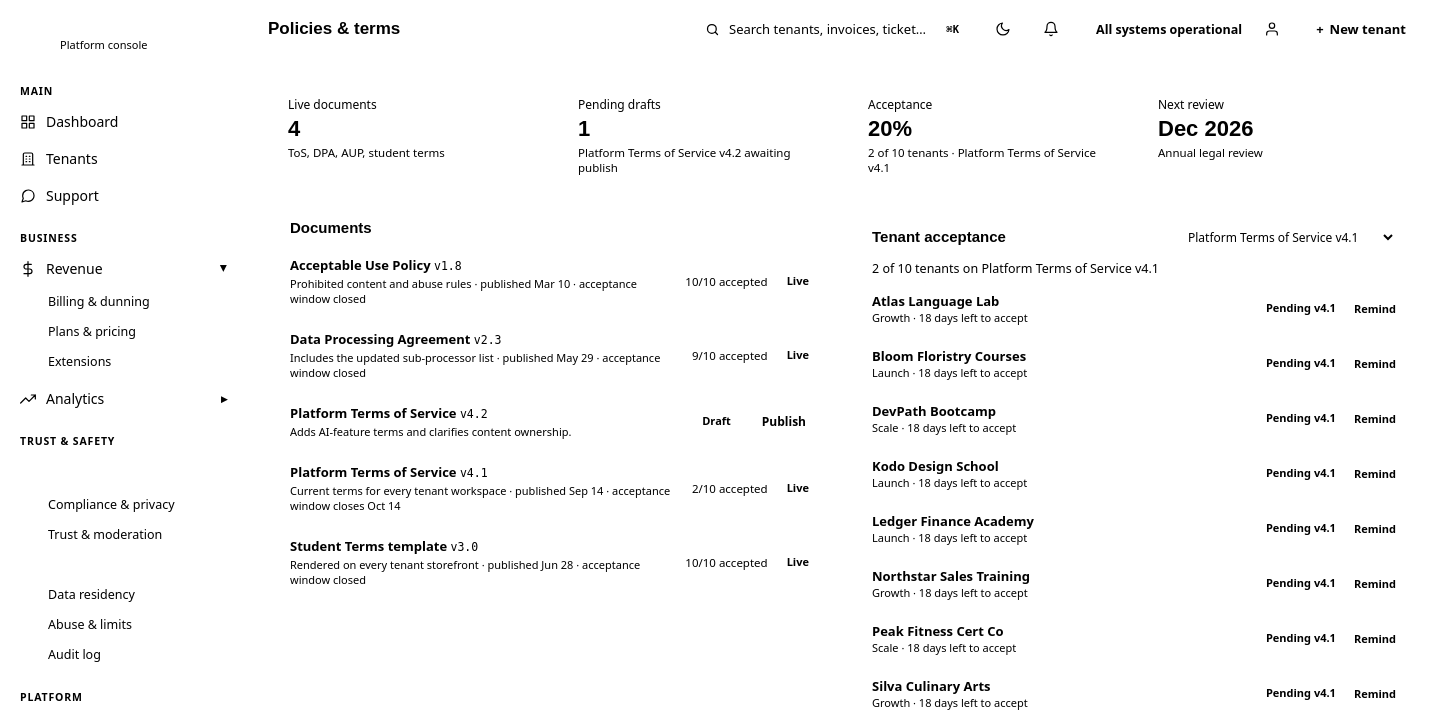
Scenario: policies & terms › switches the acceptance view by document (in the URL)
Select "Data Processing Agreement v2.3" in the dropdown named "Document" at (1286,238), box x1=1176 y1=223 x2=1396 y2=252
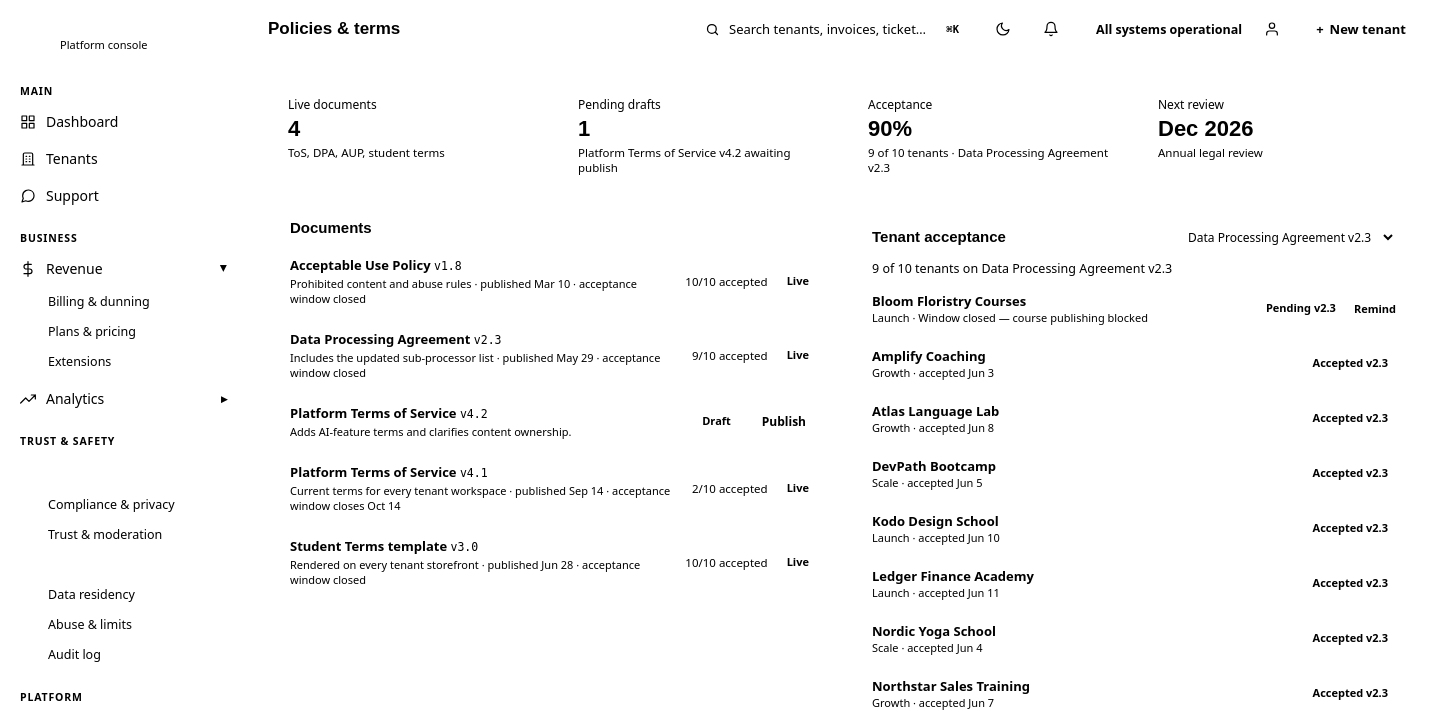
expect the text "9 of 10 tenants on Data Processing Agreement v2.3" is shown: met, box x1=872 y1=260 x2=1172 y2=277
